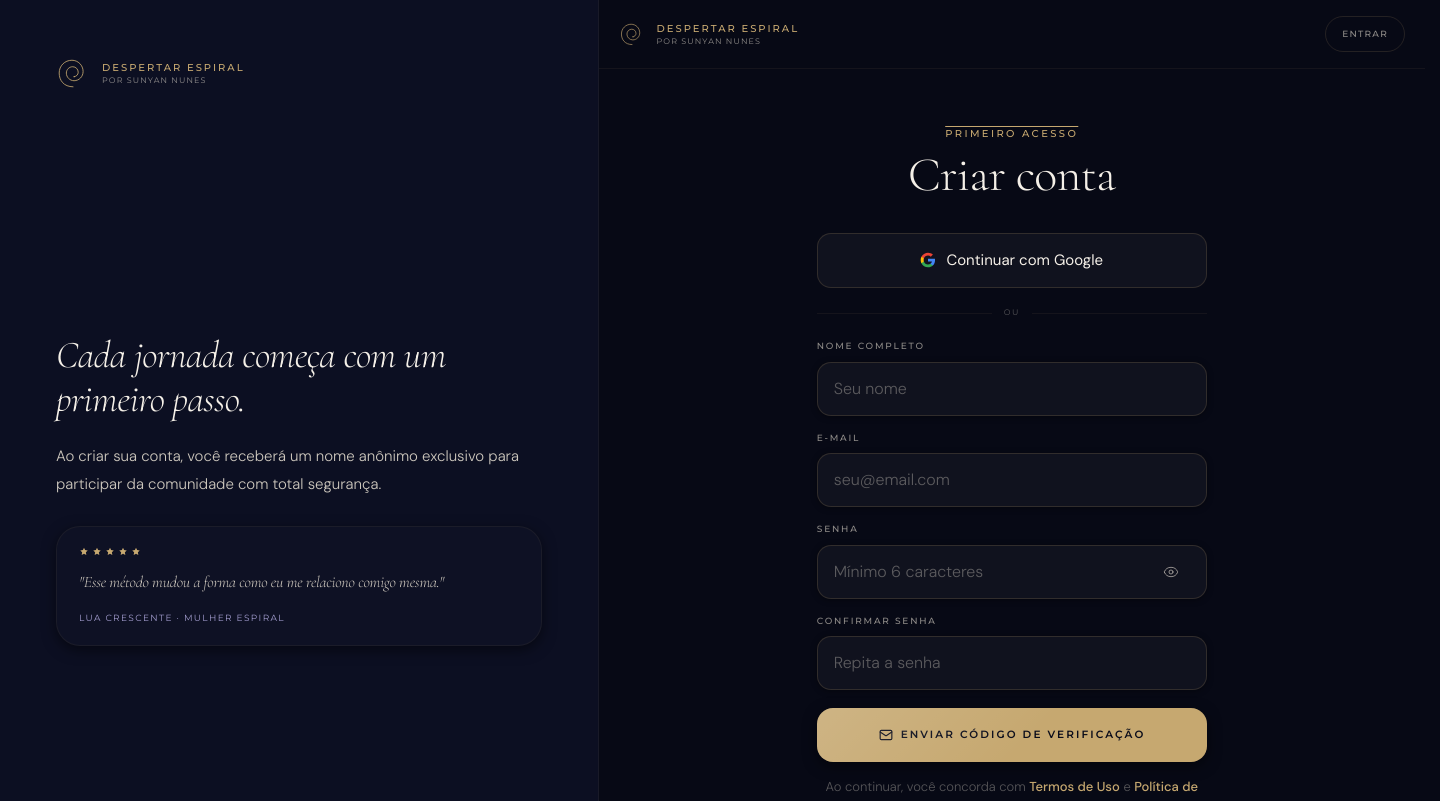
it: RegisterPage Step 1 — sendOtp success › transitions to OTP step on success
The image size is (1440, 801).
In the field with placeholder "Seu nome": (1012, 389) [817,362,1207,416], type "Ana Espiral"
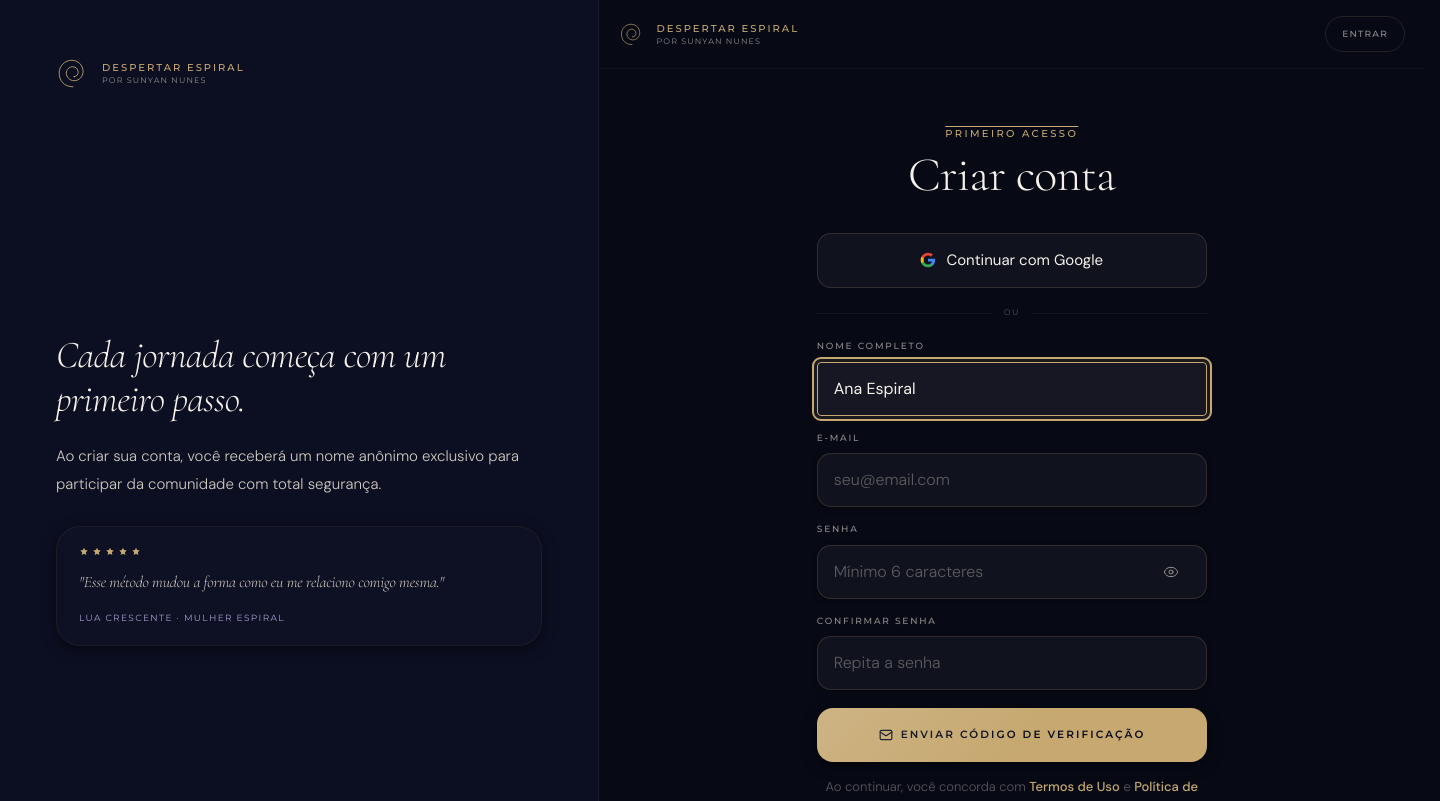
In the field with placeholder "seu@email.com": (1012, 480) [817,453,1207,507], type "ana@example.com"
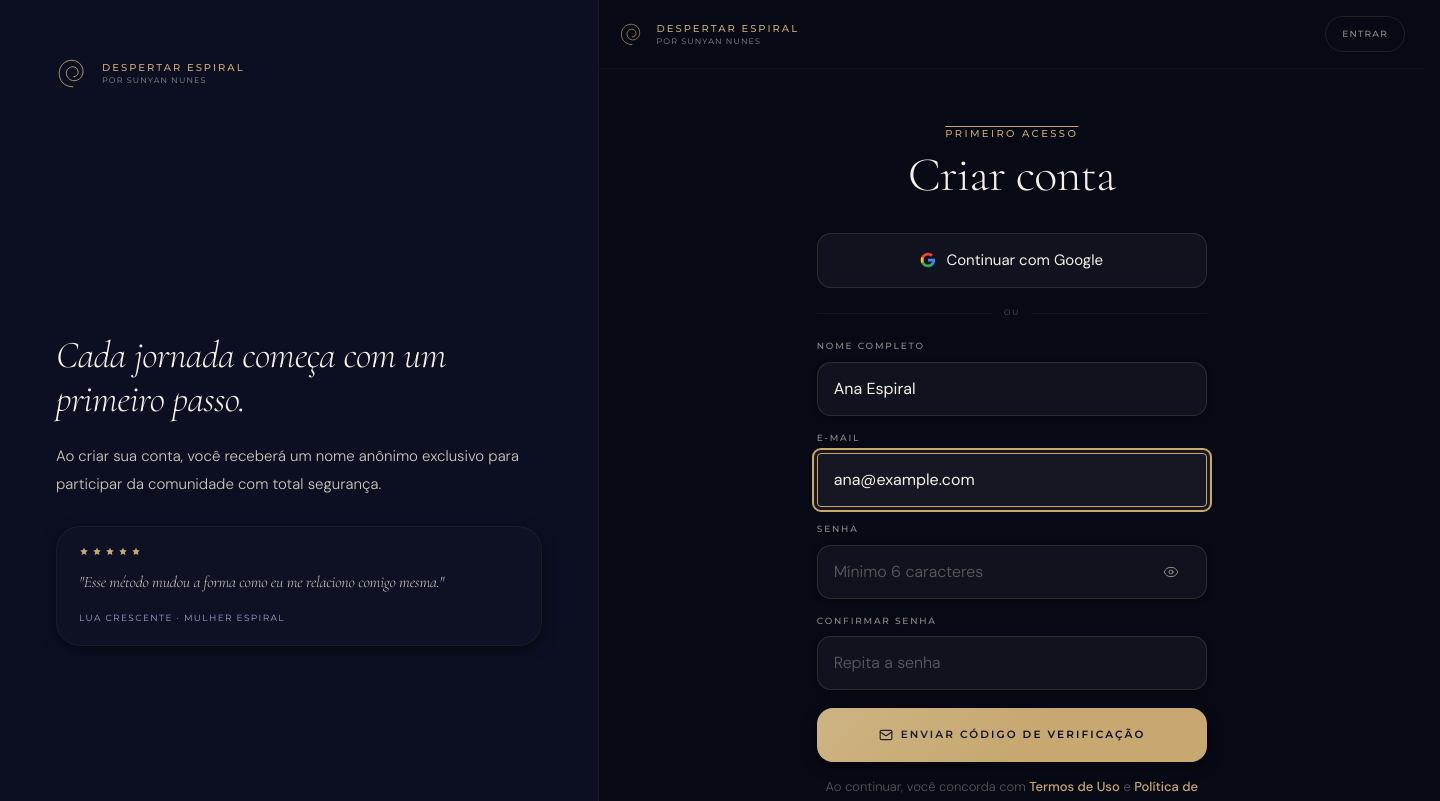
In the password field with placeholder "Mínimo 6 caracteres": (1012, 572) [817,544,1207,598], type "senha123"
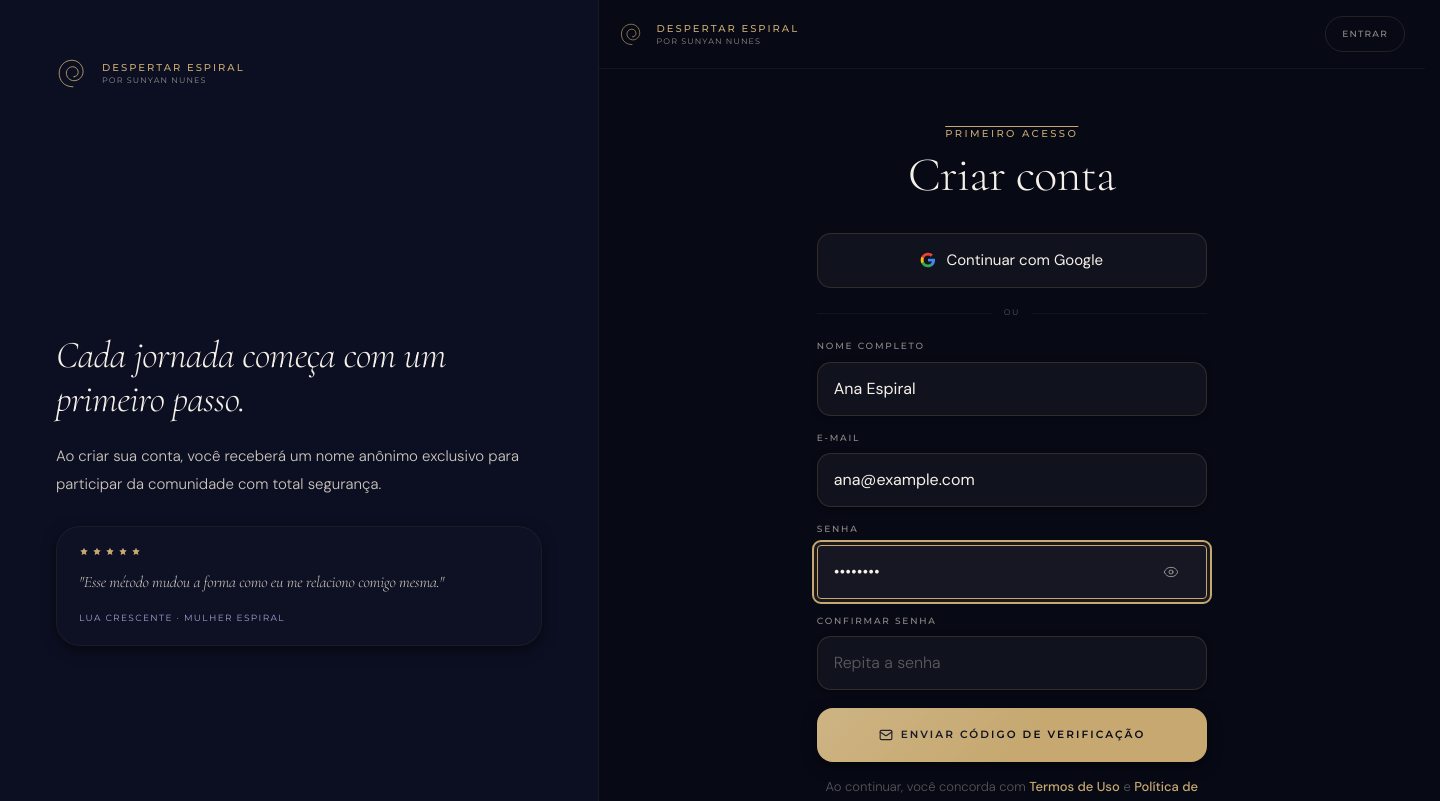
In the password field with placeholder "Repita a senha": (1012, 663) [817,636,1207,690], type "senha123"
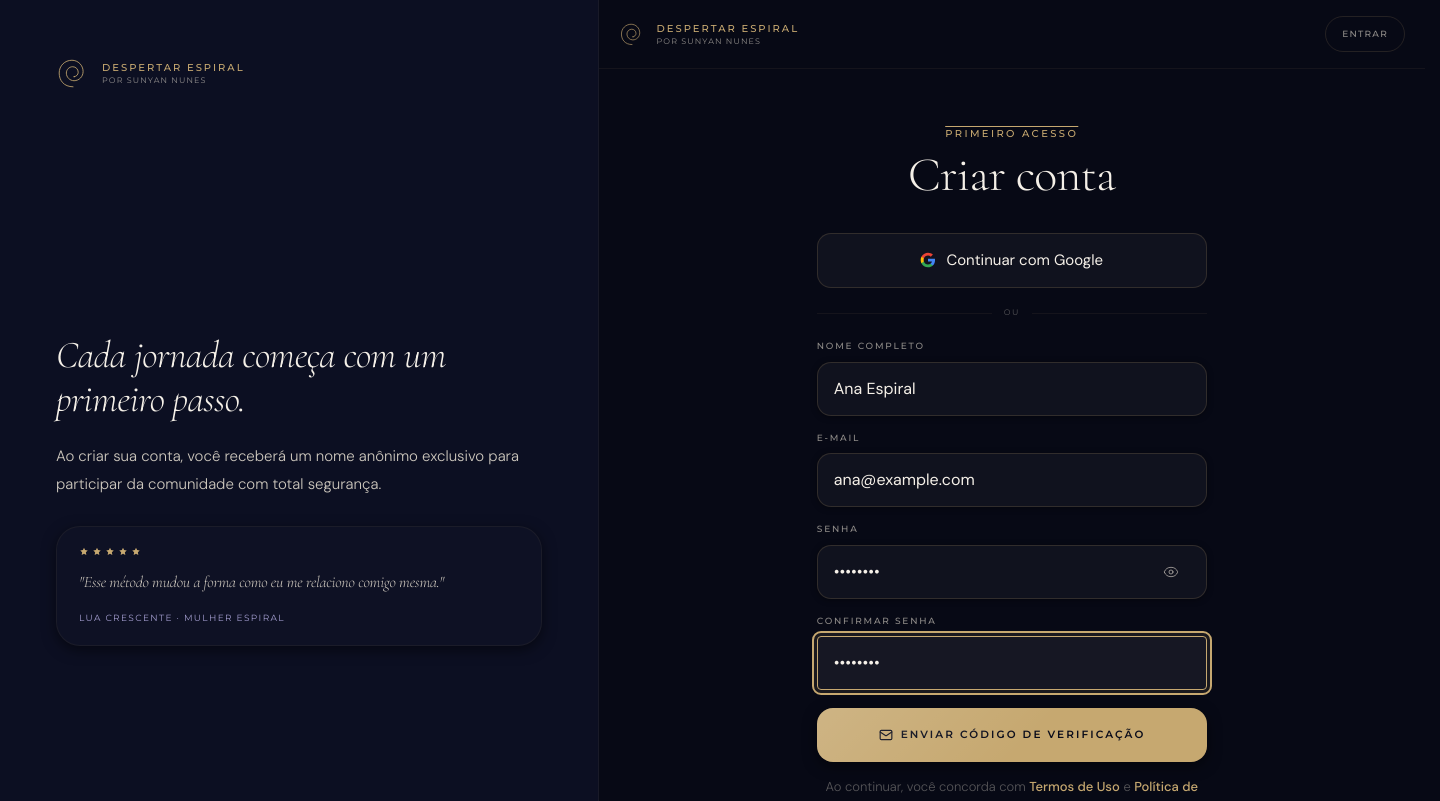
Click the button "Enviar código de verificação": (1012, 735) [817,708,1207,762]
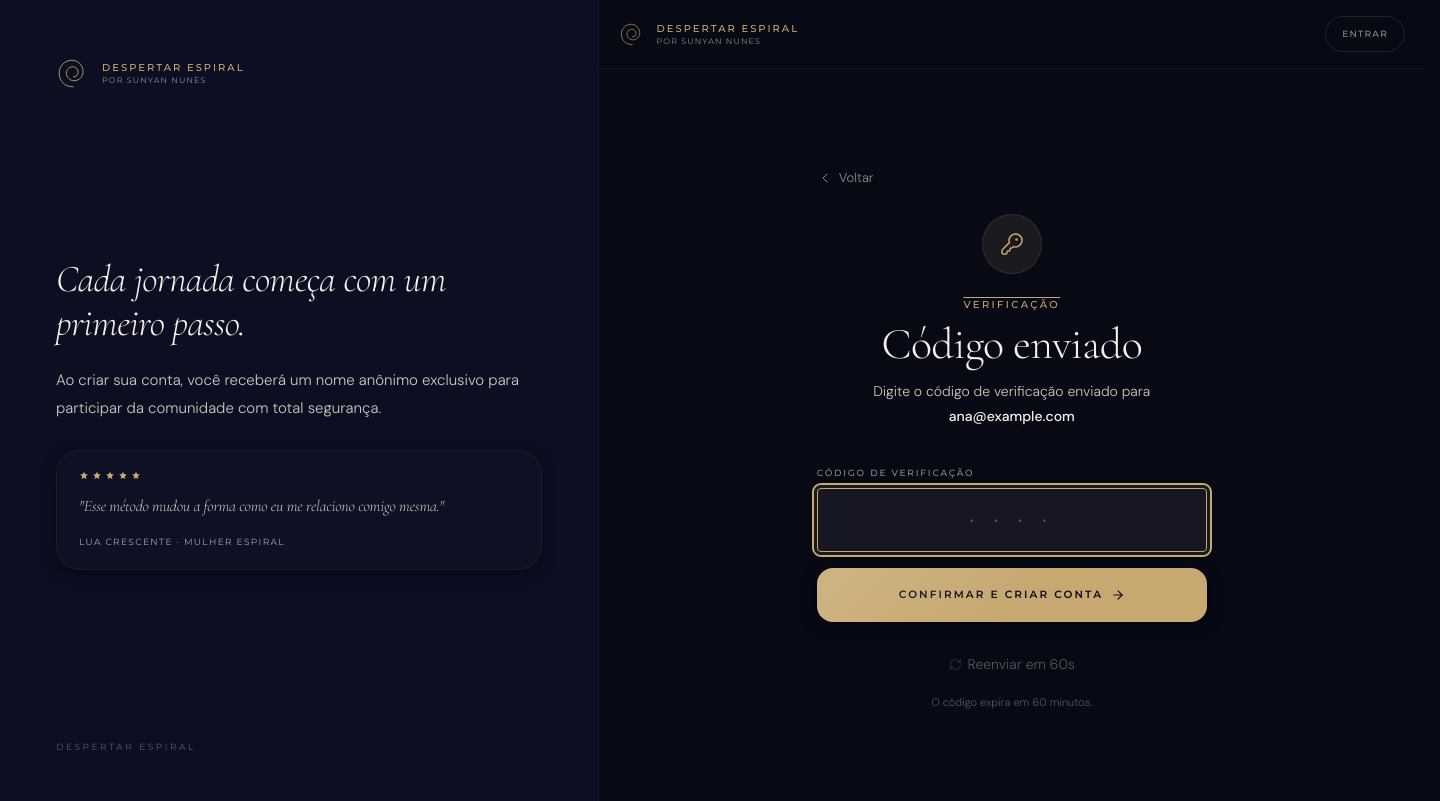
Check: the field with placeholder "• • • •" is shown, box [817,488,1207,552]
